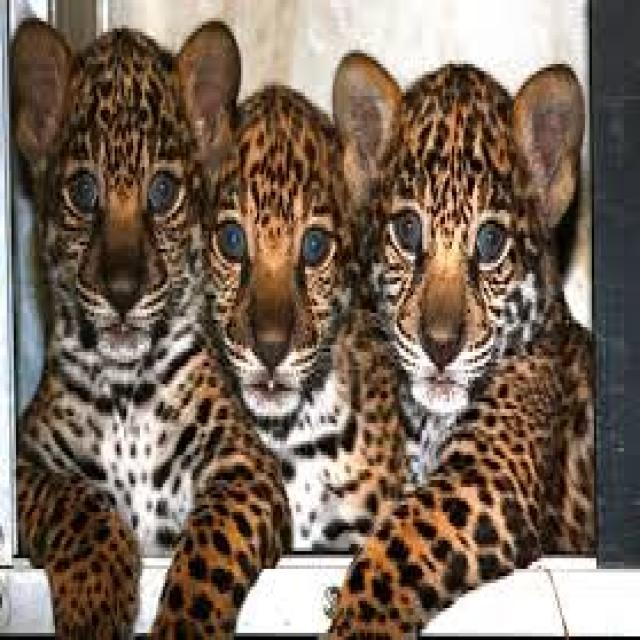Jaguar: (330, 43, 596, 622), (7, 0, 248, 626), (211, 35, 390, 569)
